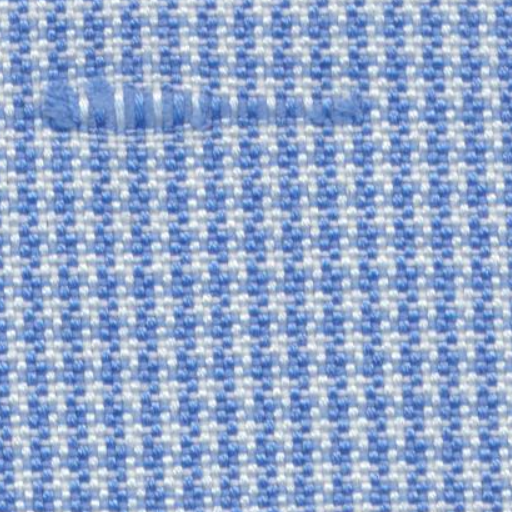DaiSha: (14, 59, 398, 151)
